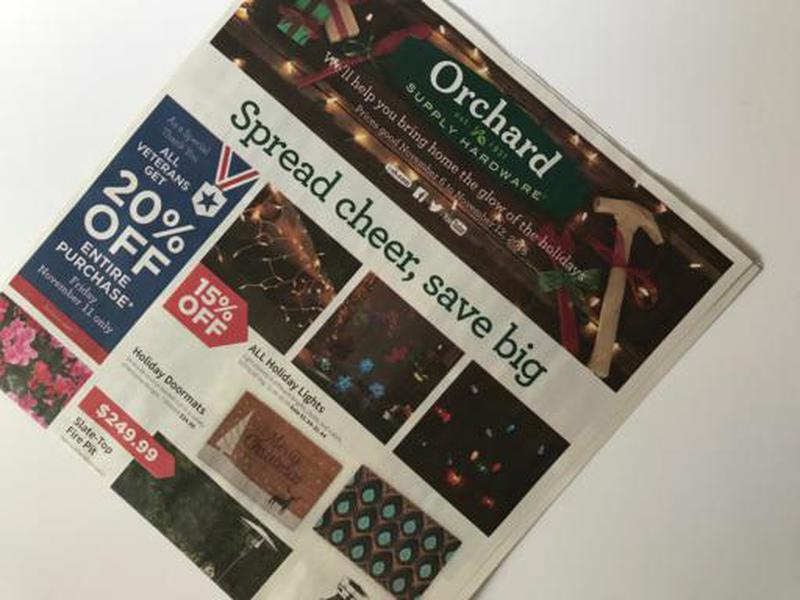paper: (1, 1, 767, 600)
